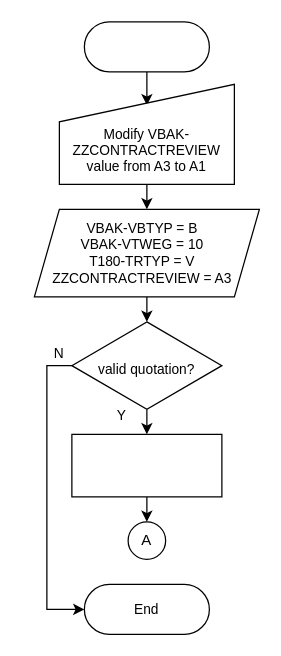
This 281x656 diagram has some shape labels left out. The centre of each missing label's shape, as x and y in pixels:
Proceed with Data Validation: the point at 146,465
Start: the point at 146,46
